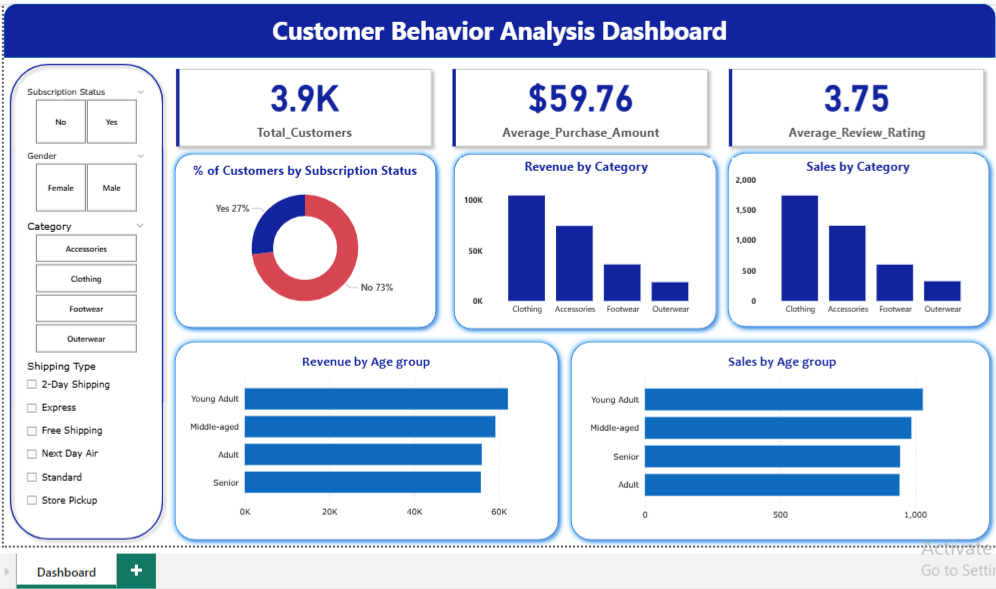

The page's visual inventory and layout, read from the dashboard file:
{"tool":"powerbi","page":{"name":"Dashboard","canvas":[1500,820],"ordinal":0},"visuals":[{"type":"cardVisual","fields":{"Data":["customer.Total_Customers","customer.Average_Purchase_Amount","customer.Average_Review_Rating"]},"box":[243.3,81.7,1256.7,151.7],"z":0},{"type":"actionButton","box":[0,0,100,40],"z":1000},{"type":"shape","box":[0,0,1500,81.7],"z":2000},{"type":"textbox","box":[0,8.3,1500,61.7],"z":3000},{"type":"shape","box":[250,218.3,413.3,281.7],"z":4000},{"type":"donutChart","title":"% of Customers by Subscription Status","fields":{"Category":["customer.subscription_status"],"Y":["Count(customer.customer_id)"]},"box":[266.7,238.3,378.3,241.7],"z":5000},{"type":"shape","box":[671.7,218.3,415,283.3],"z":6000},{"type":"shape","box":[1086.7,216.7,413.3,281.7],"z":7000},{"type":"clusteredColumnChart","title":"Revenue by Category","fields":{"Category":["customer.category"],"Y":["Sum(customer.purchased_amount)"]},"box":[690,233.3,381.7,246.7],"z":8000},{"type":"clusteredColumnChart","title":"Sales by Category","fields":{"Category":["customer.category"],"Y":["Count(customer.customer_id)"]},"box":[1101.7,233.3,381.7,246.7],"z":9000},{"type":"shape","box":[0,81.7,250,738.3],"z":10000},{"type":"slicer","fields":{"Values":["customer.gender"]},"box":[23.3,218.3,201.7,103.3],"z":11000},{"type":"slicer","fields":{"Values":["customer.subscription_status"]},"box":[23.3,121.7,201.7,96.7],"z":12000},{"type":"slicer","fields":{"Values":["customer.category"]},"box":[23.3,321.7,201.7,211.7],"z":13000},{"type":"slicer","fields":{"Values":["customer.shipping_type"]},"box":[23.3,533.3,201.7,253.3],"z":14000},{"type":"shape","box":[250,501.7,598.3,318.3],"z":15000},{"type":"clusteredBarChart","title":"Revenue by Age group","fields":{"Category":["customer.age_group"],"Y":["Sum(customer.purchased_amount)"]},"box":[266.7,528.3,563.3,258.3],"z":16000},{"type":"shape","box":[848.3,501.7,651.7,318.3],"z":16001},{"type":"clusteredBarChart","title":"Sales by Age group","fields":{"Category":["customer.age_group"],"Y":["CountNonNull(customer.customer_id)"]},"box":[871.7,528.3,611.7,263.3],"z":16002}]}

Visuals, with their boxes in screenshot pixels (x1, y1, x2, y2):
cardVisual - customer.Total_Customers x customer.Average_Purchase_Amount: [170,53,993,153]
actionButton: [10,0,76,26]
shape: [10,0,993,53]
textbox: [10,5,993,46]
shape: [174,143,445,327]
"% of Customers by Subscription Status" donutChart: [185,156,433,314]
shape: [450,143,722,328]
shape: [722,142,993,326]
"Revenue by Category" clusteredColumnChart: [462,153,712,314]
"Sales by Category" clusteredColumnChart: [732,153,982,314]
shape: [10,53,174,537]
slicer - customer.gender: [26,143,158,211]
slicer - customer.subscription_status: [26,80,158,143]
slicer - customer.category: [26,211,158,349]
slicer - customer.shipping_type: [26,349,158,515]
shape: [174,329,566,537]
"Revenue by Age group" clusteredBarChart: [185,346,554,515]
shape: [566,329,993,537]
"Sales by Age group" clusteredBarChart: [581,346,982,518]
